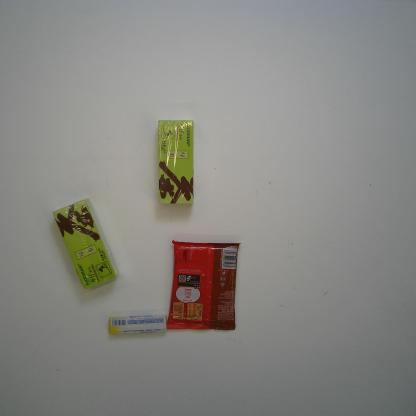Candy: (108, 314, 168, 336)
Dessert: (166, 238, 242, 332)
Instant Drink: (51, 198, 119, 291), (158, 118, 195, 205)
